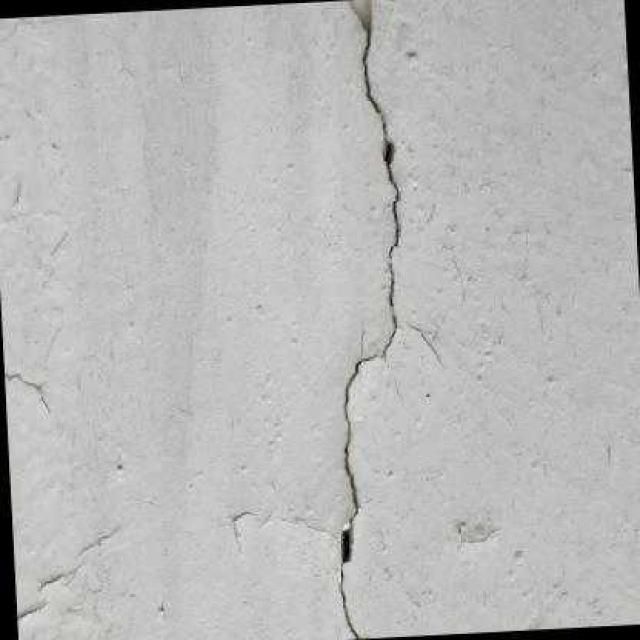D00: (336, 26, 397, 639)
